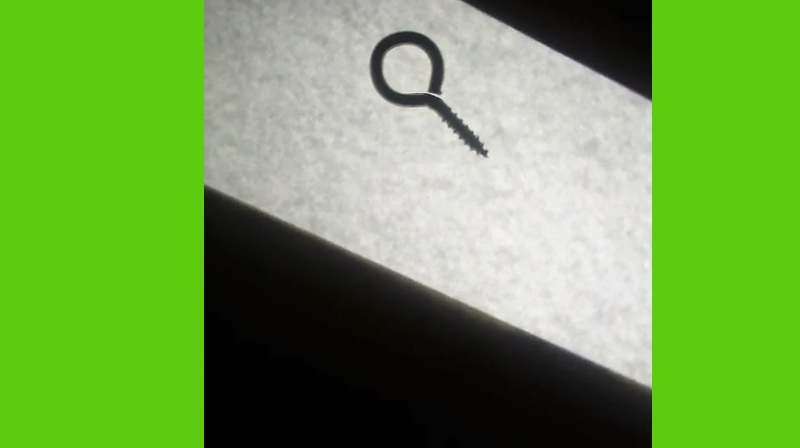O001: (366, 26, 488, 159)
